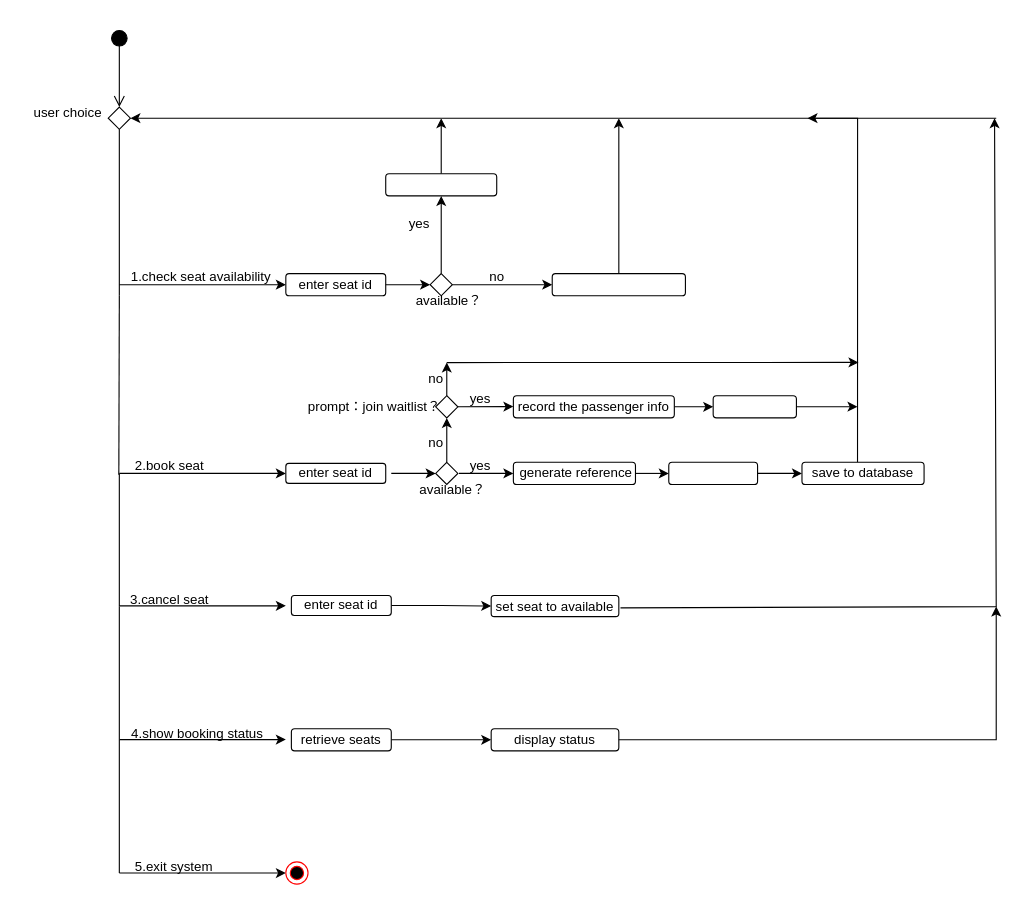
The diagram is 1025 pixels wide and 904 high, and some of its shapes have lost their labels. The box of each missing label's shape, as (x1, y1, x2, y2) in pixels:
add to list: (712, 395, 796, 418)
display available: (385, 173, 497, 196)
display unavailable: (551, 273, 685, 296)
update seat: (668, 461, 758, 485)
